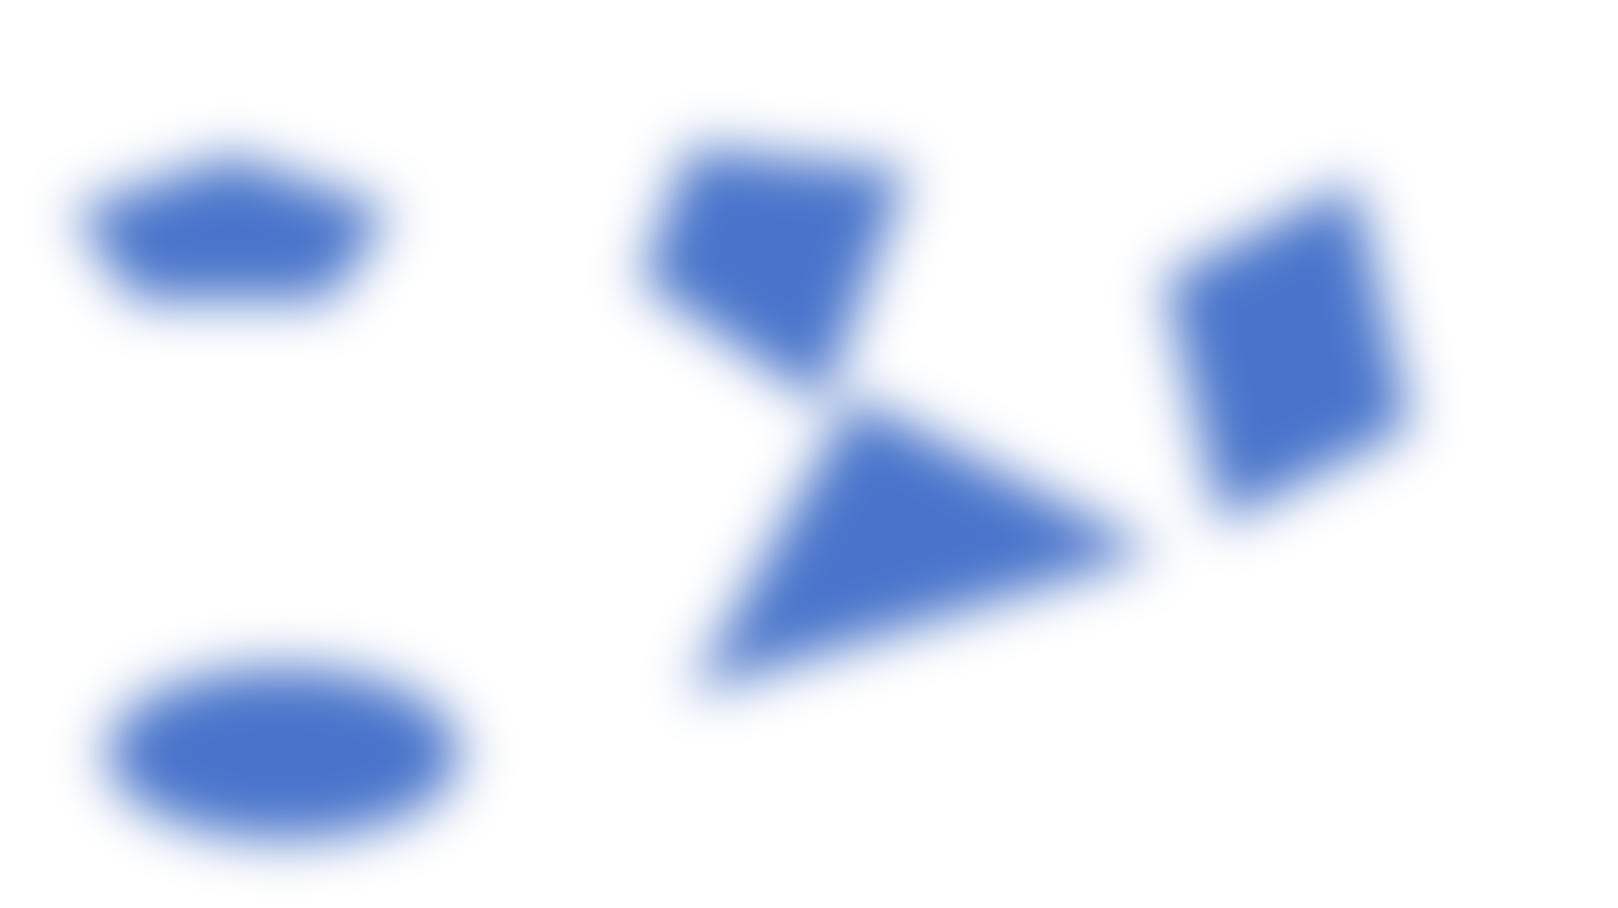circle: (93, 641, 493, 854)
parallelogram: (1163, 164, 1427, 552)
pentagon: (90, 134, 384, 315)
trapezium: (636, 131, 927, 421)
triangle: (667, 393, 1152, 690)
